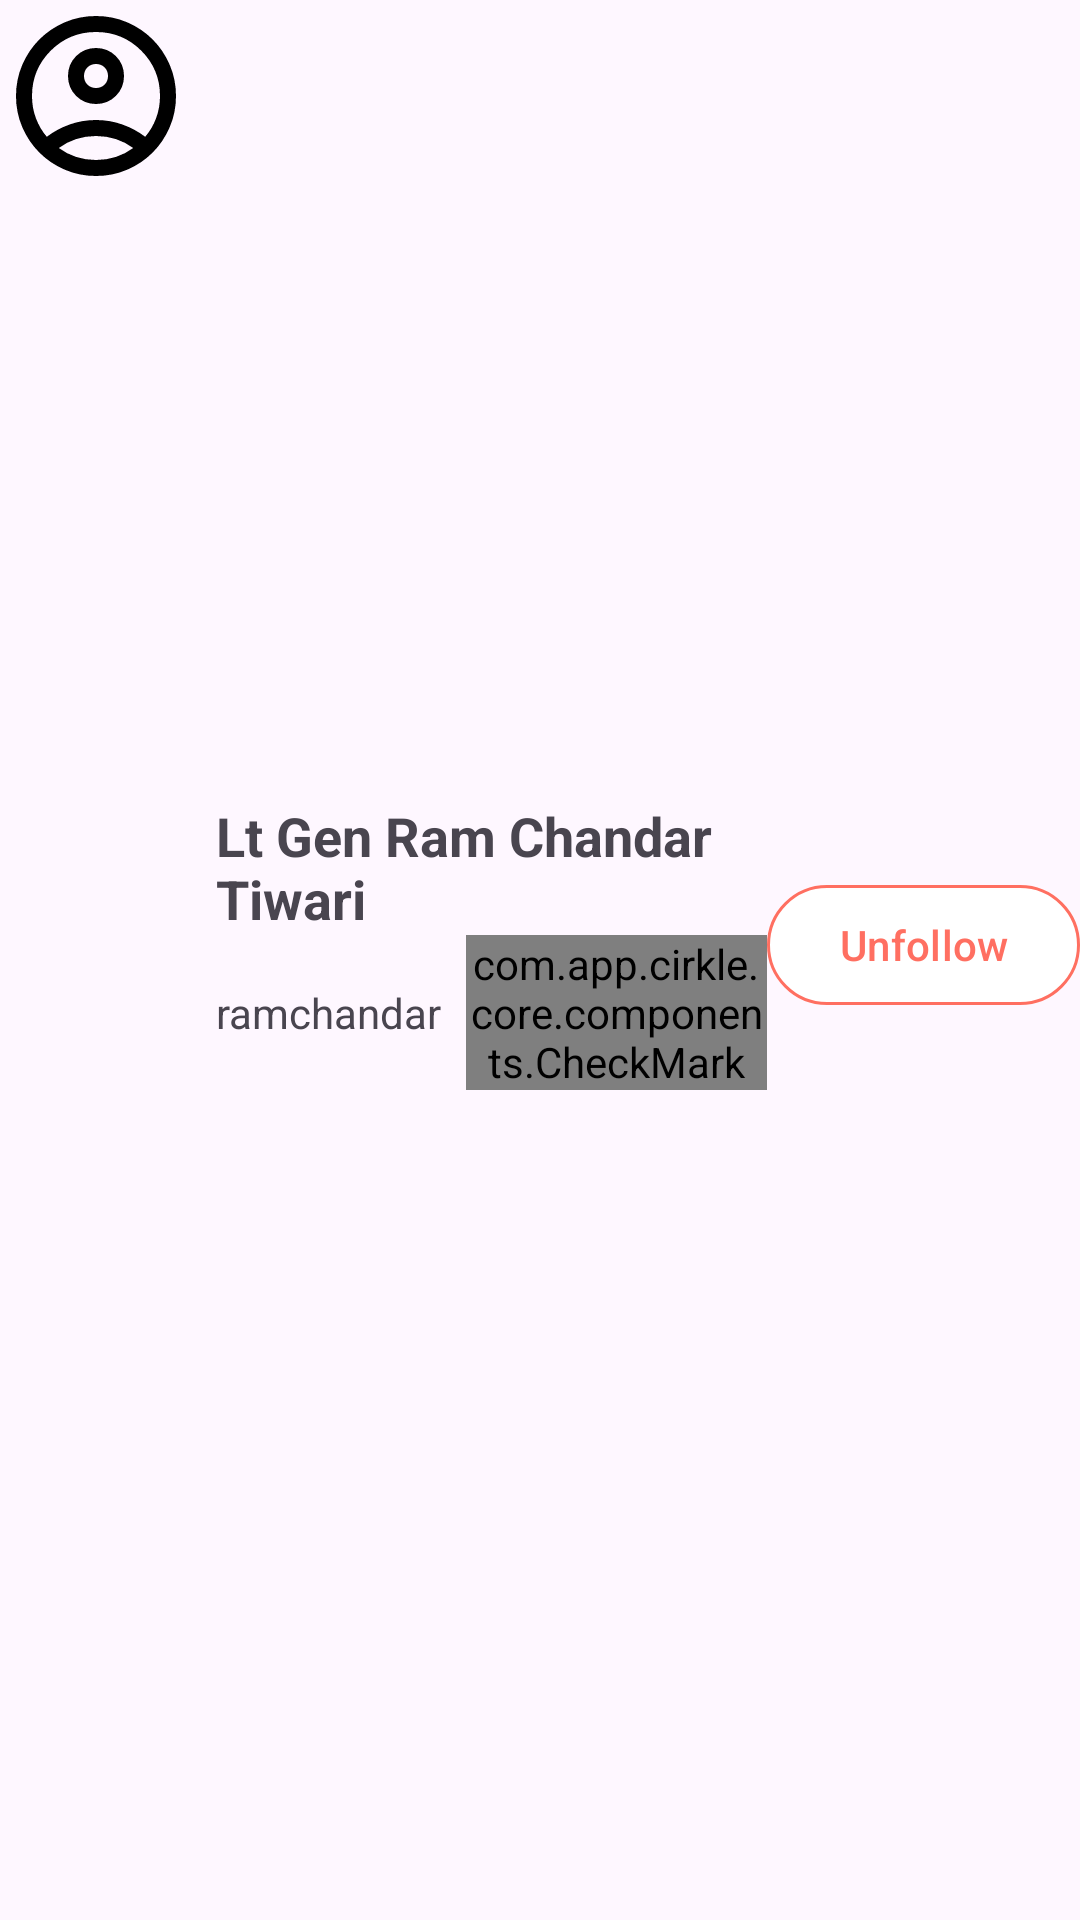

Screen size 1080 x 1920. Icon name, then its center in pixels as [x,y]:
account circle: [96,96]
